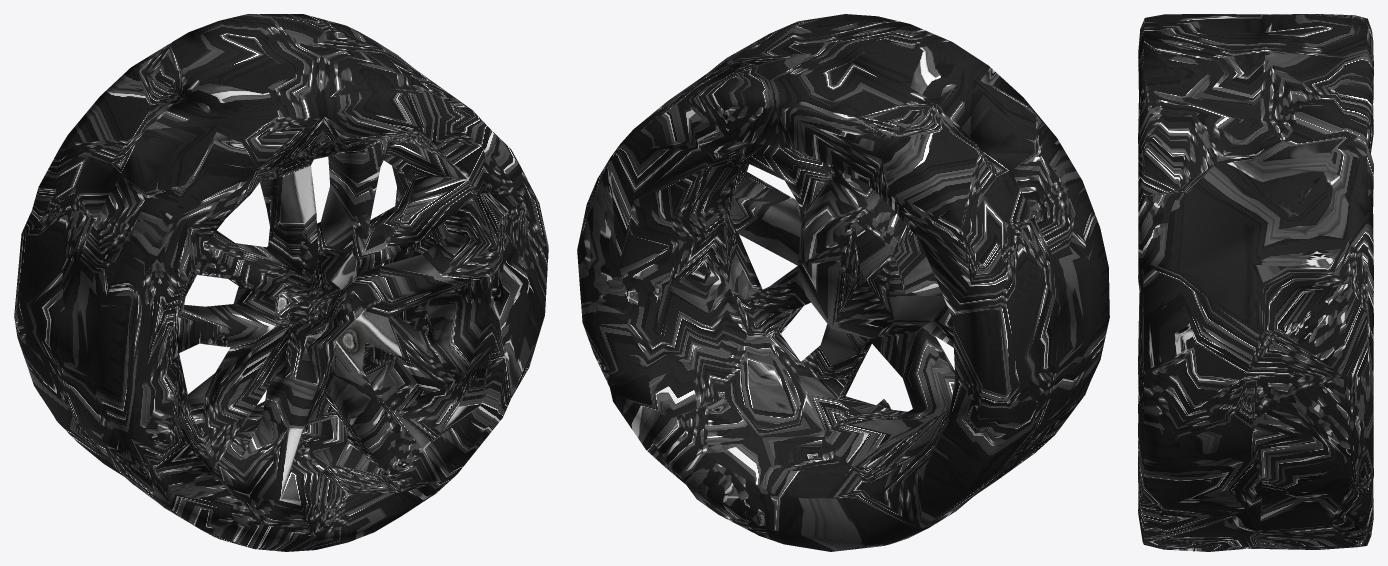
The model's file is wheel_lod.glb.
3 renders of one model, left to right at view 1: azimuth 30°, elevation 25°; view 2: azimuth 150°, elevation 25°; view 3: azimuth 270°, elevation 25°, orthographic. The views are drawn at different scales.
Bounding box in the file's own units: 1.89 × 1.89 × 0.8317.
1 material, 1 textured.
